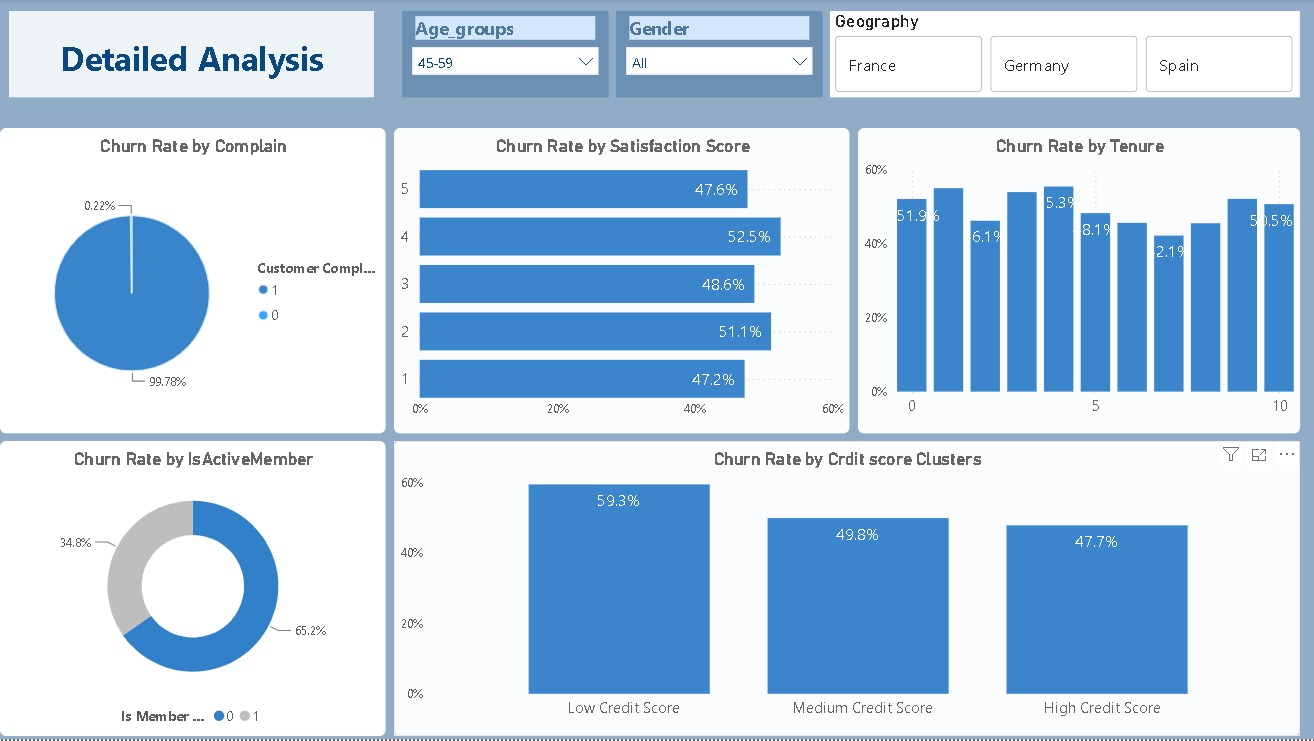

Layout of this report page (visuals, bound fields, positions):
{"tool":"powerbi","page":{"name":"Page 2","canvas":[1280,720],"ordinal":1},"visuals":[{"type":"donutChart","fields":{"Category":["customer-churn.IsActiveMember"],"Y":["customer-churn.Churn Rate"]},"box":[0,429.8,375.2,286.9],"z":0},{"type":"barChart","fields":{"Category":["customer-churn.Satisfaction Score"],"Y":["customer-churn.Churn Rate"]},"box":[383.6,125.1,443.5,297.4],"z":1000},{"type":"clusteredColumnChart","fields":{"Y":["customer-churn.Churn Rate"],"Category":["customer-churn.Tenure"]},"box":[834.4,125.1,429.8,297.4],"z":2000},{"type":"pieChart","fields":{"Category":["customer-churn.Complain"],"Y":["customer-churn.Churn Rate"]},"box":[0,125.5,375.4,296.7],"z":3000},{"type":"slicer","fields":{"Values":["customer-churn.Age_groups"]},"box":[390.9,11.6,200.7,84.1],"z":4000},{"type":"slicer","fields":{"Values":["customer-churn.Gender"]},"box":[599,11.6,200.7,84.1],"z":5000},{"type":"advancedSlicerVisual","fields":{"Values":["customer-churn.Geography"]},"box":[807.1,11.6,457.1,84.1],"z":6000},{"type":"columnChart","title":"Churn Rate by Credit score Clusters","fields":{"Y":["customer-churn.Churn Rate"],"Category":["customer-churn.Crdit score Clusters"]},"box":[383.6,429.8,880.7,286.9],"z":7000},{"type":"textbox","box":[8.4,11.6,355.2,84.1],"z":8000}]}

Visuals, with their boxes in screenshot pixels (x1, y1, x2, y2), scaled from the page's 1280x720 canvas onto the 1314x741 screenshot:
donutChart - customer-churn.IsActiveMember x customer-churn.Churn Rate: 0,442,385,738
barChart - customer-churn.Satisfaction Score x customer-churn.Churn Rate: 394,129,849,435
clusteredColumnChart - customer-churn.Churn Rate x customer-churn.Tenure: 857,129,1298,435
pieChart - customer-churn.Complain x customer-churn.Churn Rate: 0,129,385,435
slicer - customer-churn.Age_groups: 401,12,607,98
slicer - customer-churn.Gender: 615,12,821,98
advancedSlicerVisual - customer-churn.Geography: 829,12,1298,98
"Churn Rate by Credit score Clusters" columnChart: 394,442,1298,738
textbox: 9,12,373,98
